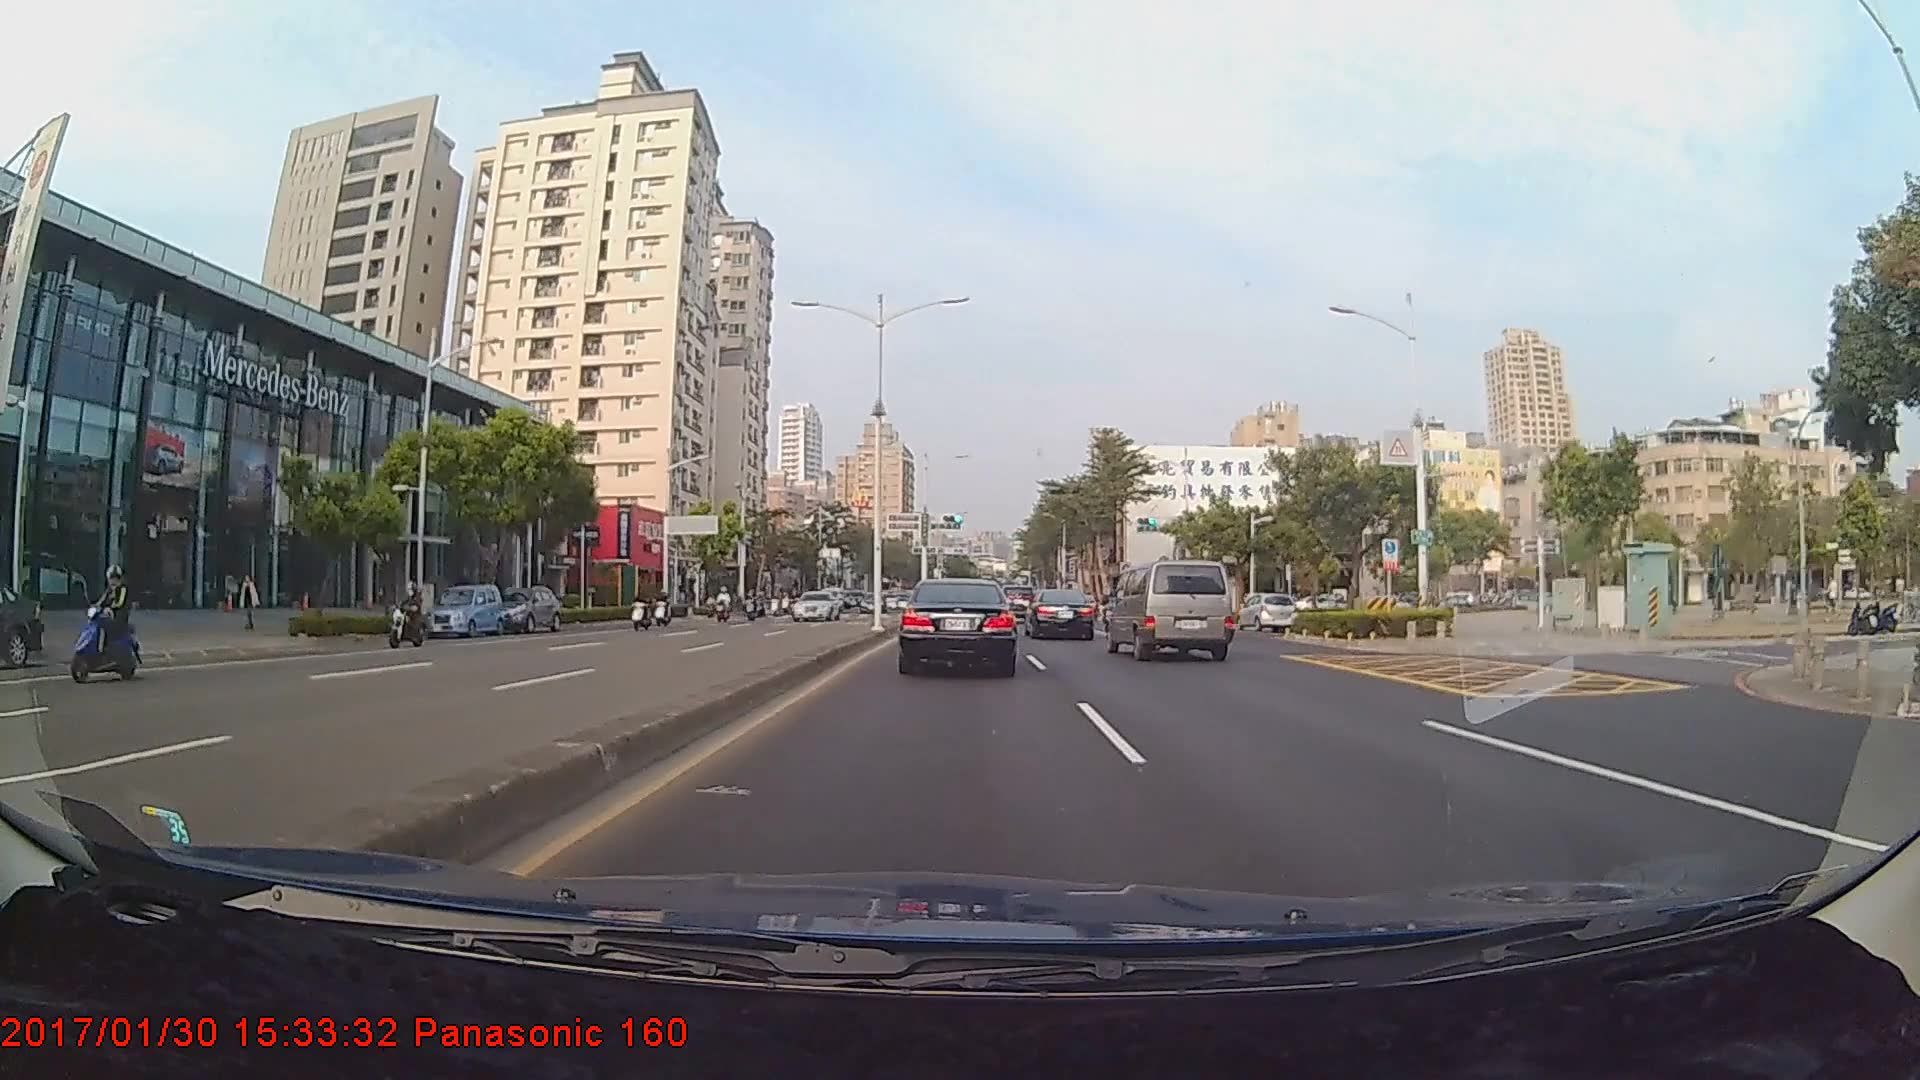pedestrian: (238, 571, 261, 634)
rider: (66, 565, 157, 685), (380, 581, 431, 657)
vehicle: (1107, 559, 1232, 661), (898, 577, 1019, 676), (424, 580, 503, 635), (0, 578, 44, 668), (486, 585, 564, 636), (1025, 587, 1096, 641), (1235, 592, 1299, 633), (791, 591, 842, 620)
